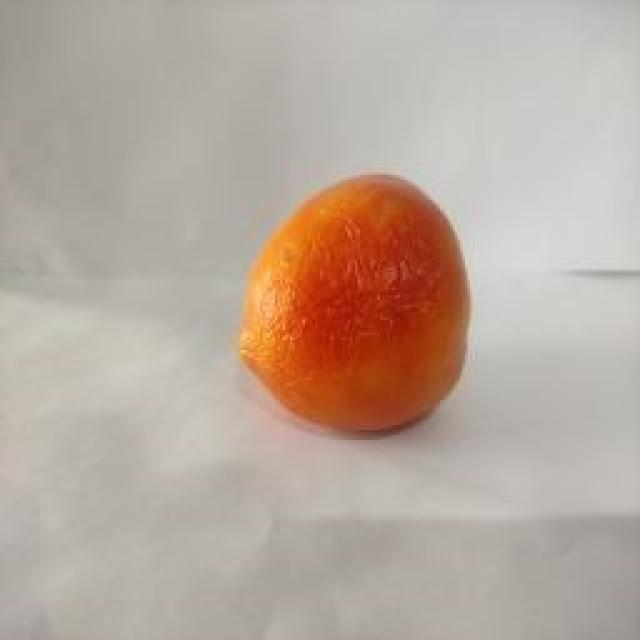unripe: (79, 190, 574, 467)
